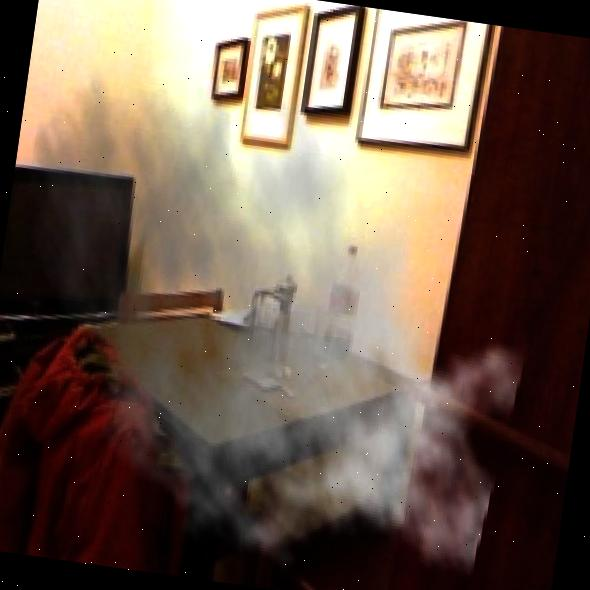smoke: (0, 12, 565, 590)
